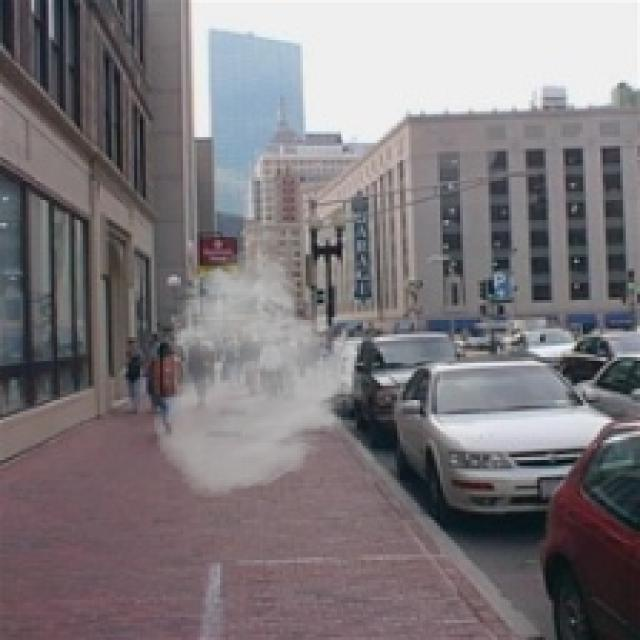Smoke: (152, 248, 372, 501)
